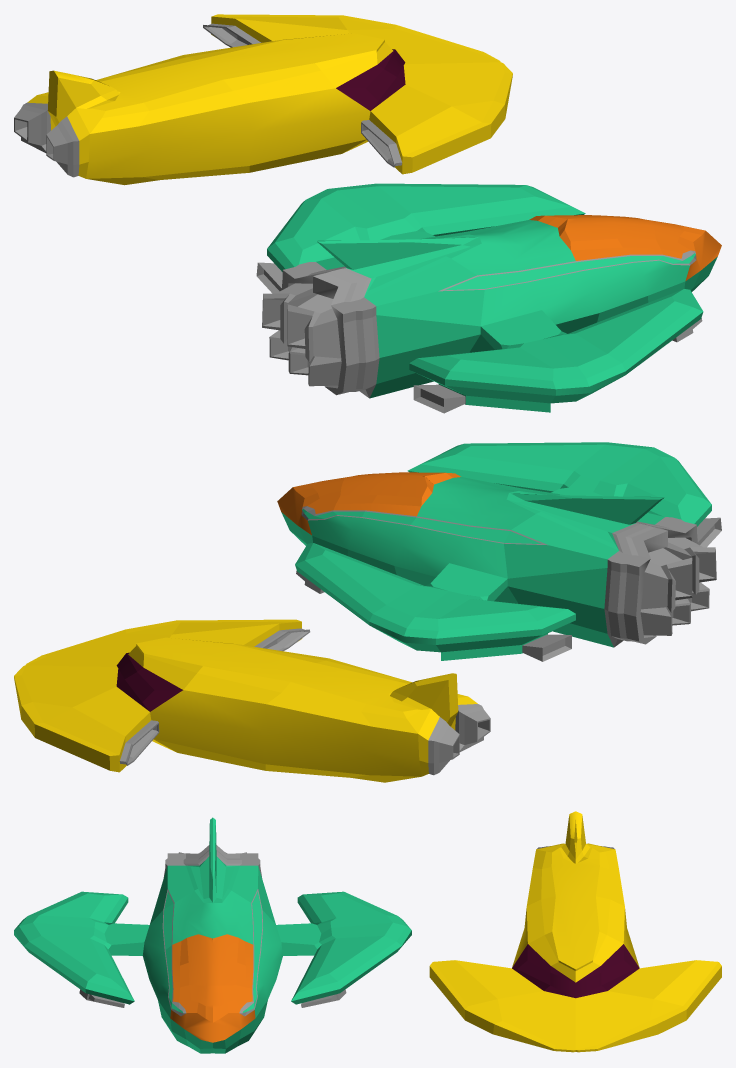
The model's file is Y_Spaceship.FBX.
3 views of the same model, one above another, from view 1: azimuth 30°, elevation 25°; view 2: azimuth 150°, elevation 25°; view 3: azimuth 270°, elevation 25° (orthographic). The views are drawn at different scales.
Visible parts, largest first — view 1: Box001 (×2); view 2: Box001 (×2); view 3: Box001 (×2).
Part boxes in pixels (left/top/right/bottom): Box001 (×2): left=14, top=14, right=721, bottom=413; Box001 (×2): left=14, top=442, right=721, bottom=782; Box001 (×2): left=14, top=811, right=721, bottom=1053.
Size of the model in its own units: 200 by 64.98 by 349.
